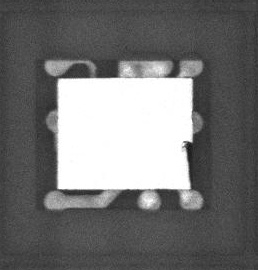DIE_BROKEN: (181, 140, 192, 190)
